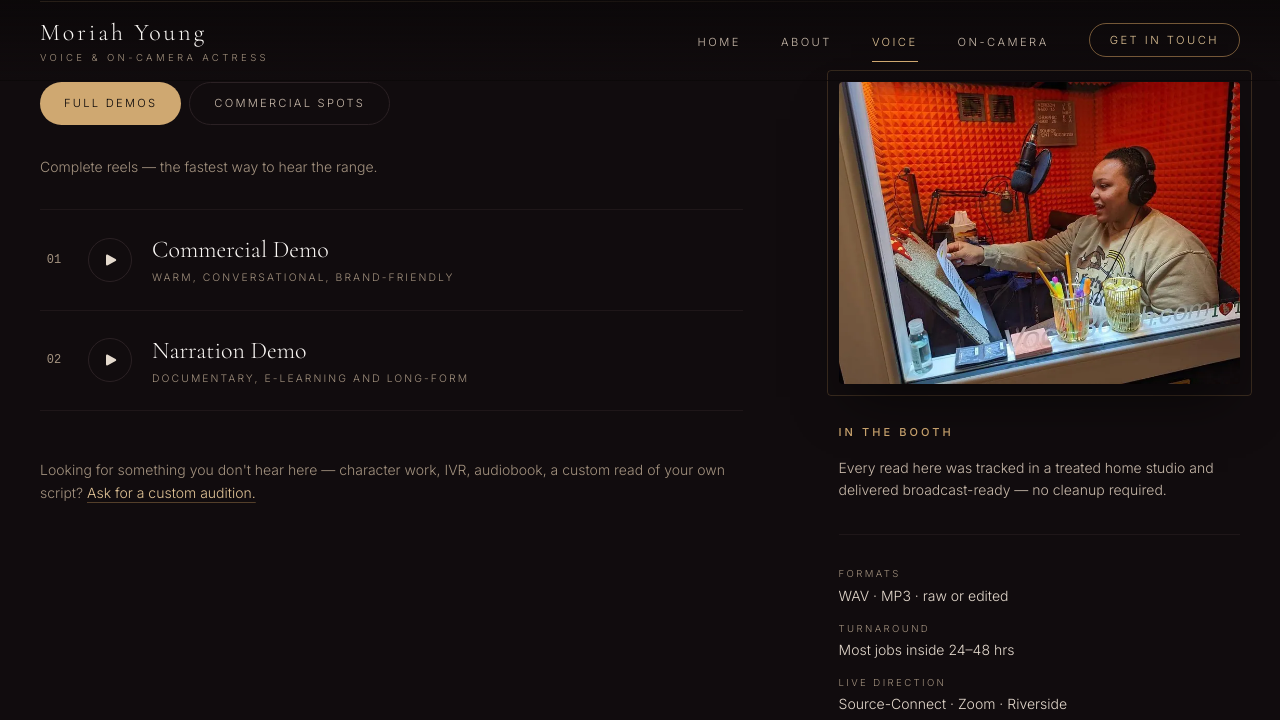
voice player › opens the transport bar when a track is selected
(page scrolled)
Click the button with aria-label "play narration demo" at (110,360), box [40,311,742,410]
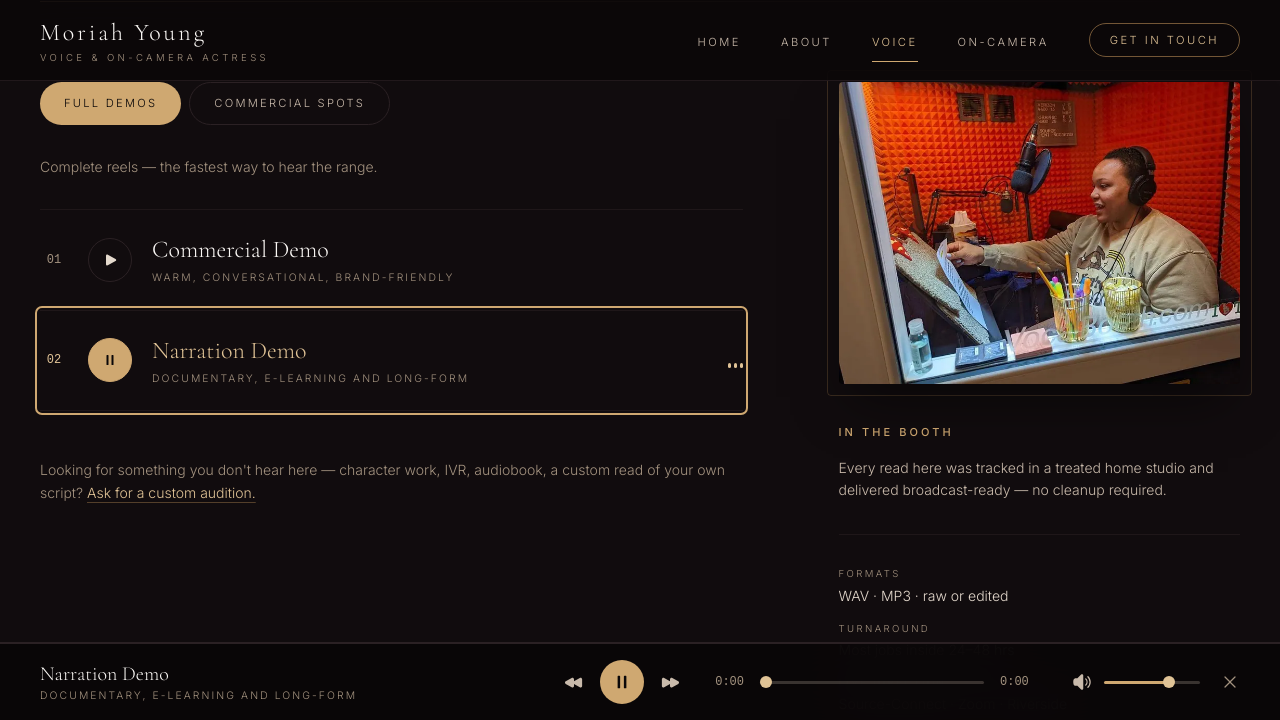
Check: the element named "audio player" is shown, box [0,642,1279,719]
